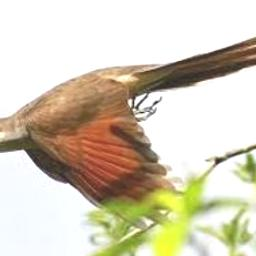Cuckoo: (0, 31, 256, 228)
